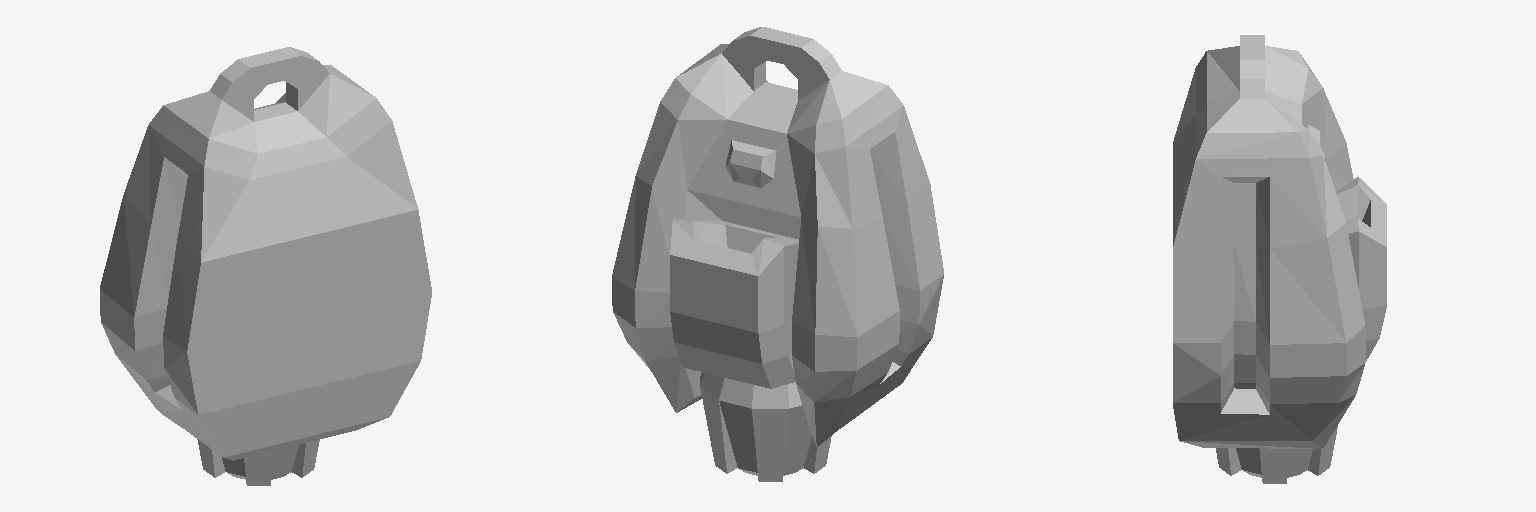
The model's file is SpaceRanger_Jetpack.obj.
3 renders of one model, left to right at view 1: azimuth 30°, elevation 25°; view 2: azimuth 150°, elevation 25°; view 3: azimuth 270°, elevation 25°, orthographic.
Visible parts, largest first — view 1: SpaceRanger_Jetpack; view 2: SpaceRanger_Jetpack; view 3: SpaceRanger_Jetpack.
Part boxes in pixels (left/top/right/bottom): SpaceRanger_Jetpack: left=100, top=47, right=431, bottom=485; SpaceRanger_Jetpack: left=612, top=27, right=943, bottom=481; SpaceRanger_Jetpack: left=1173, top=35, right=1386, bottom=483.
Size of the model in its own units: 0.5524 by 0.8683 by 0.4053.